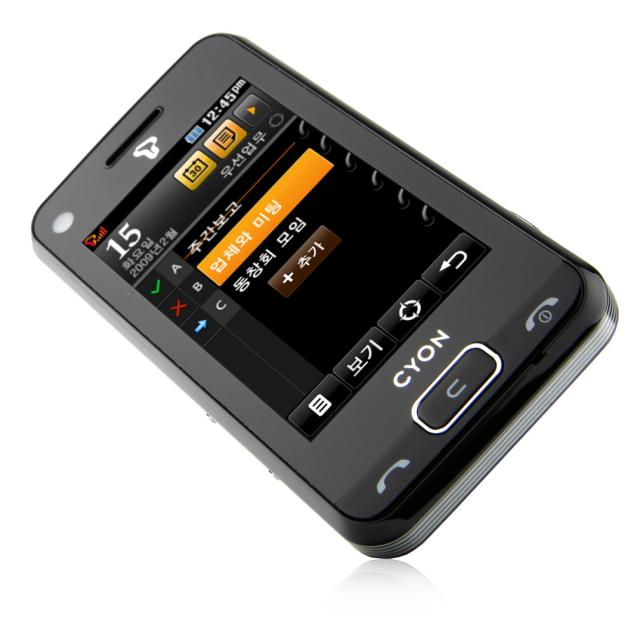Mobile phone: (28, 27, 614, 543)
